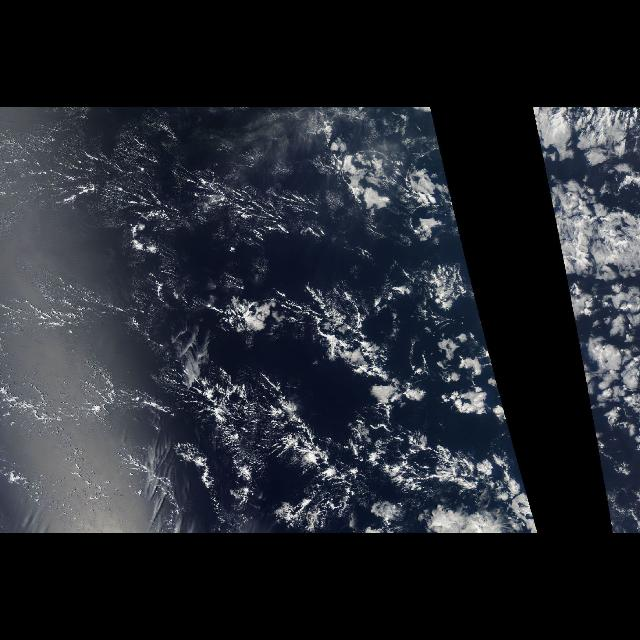Flower: (576, 332, 640, 448)
Sugar: (0, 111, 322, 506)
